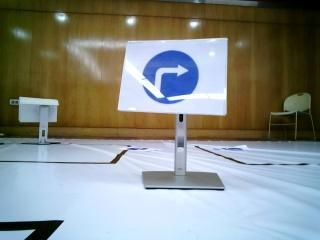right: (125, 42, 225, 115)
